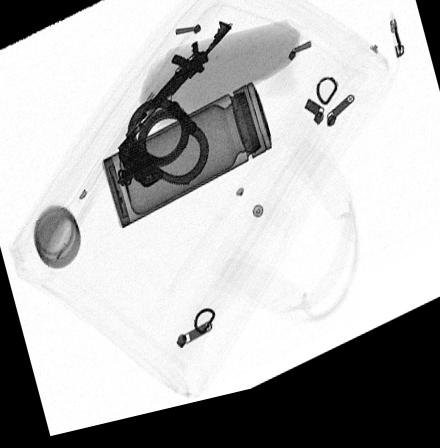Gun: (126, 30, 231, 147)
HandCuffs: (115, 104, 209, 198)
